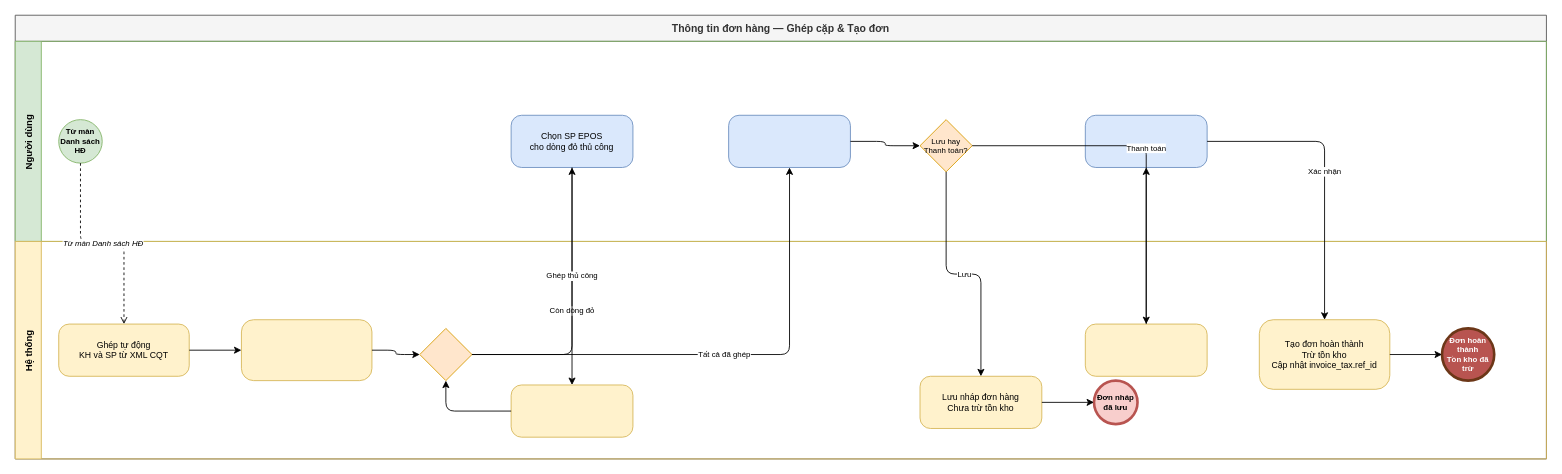
This 1562x474 diagram has some shape labels left out. Here are the shapes that lost their labels. From the top down, the box of each, then its label:
(728, 114, 850, 167): Kiểm tra / chỉnh sửa thông tin đơn
(1084, 114, 1207, 167): Chọn PTTT và xác nhận
(241, 319, 372, 381): Hiển thị màn Thông tin ĐH Ngày = NLap · Đánh dấu dòng đỏ
(419, 328, 472, 381): Còn SP chưa ghép?
(1084, 323, 1207, 376): Hiển thị popup Chọn PTTT
(510, 384, 633, 437): Lưu kết quả ghép vào invoice_product_mapping
